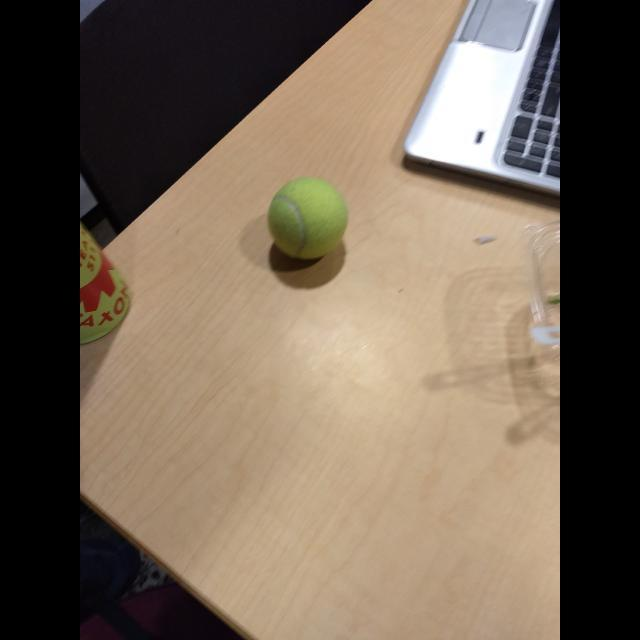tennis-ball: (268, 175, 349, 263)
